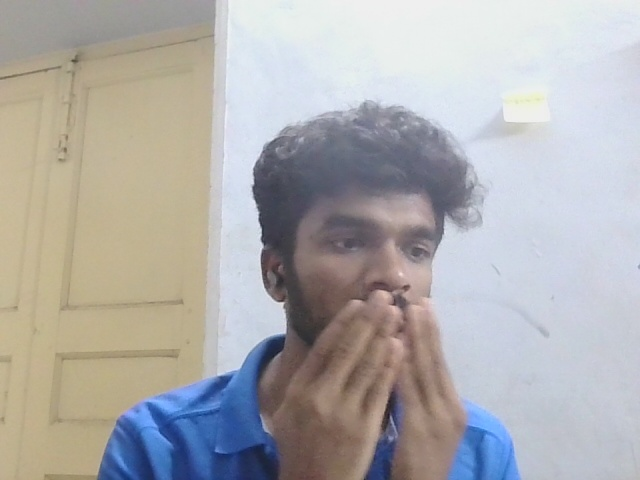Thanks: (265, 279, 504, 474)
